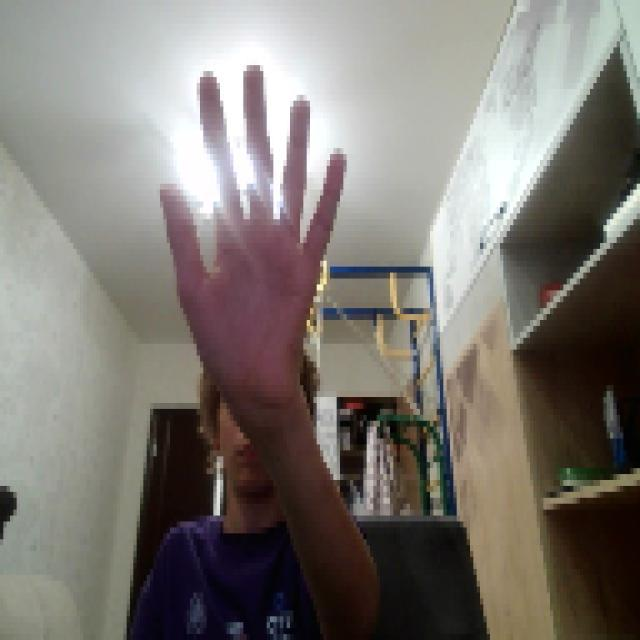hand: (154, 47, 344, 409)
